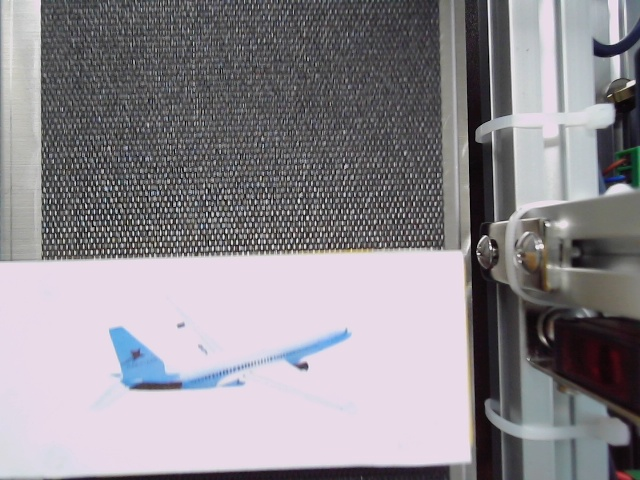airplane: (80, 300, 363, 440)
